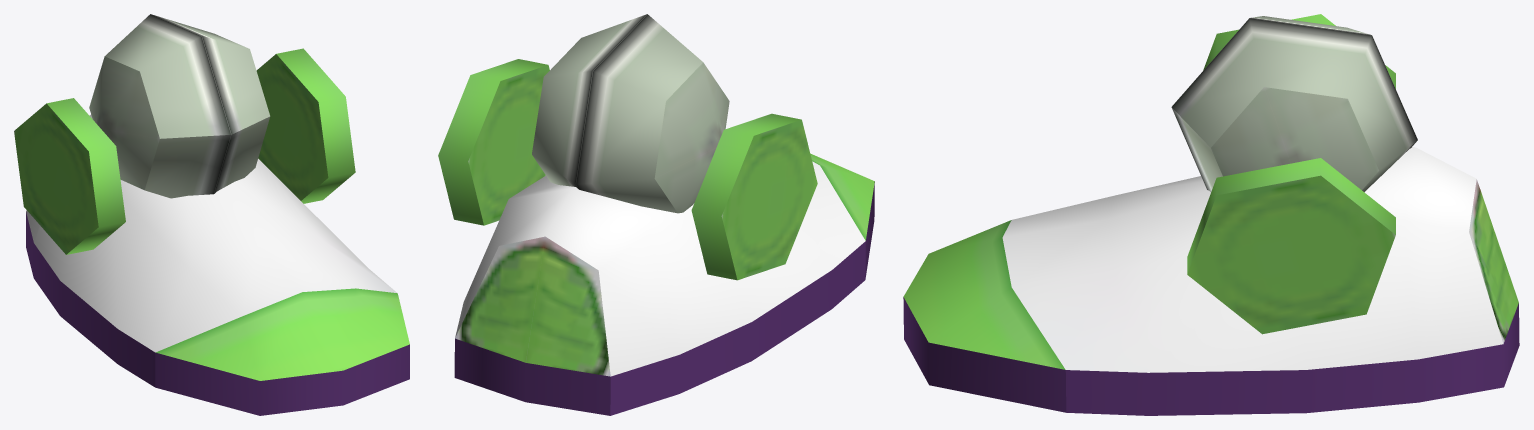
The model's file is buzzlightyRightFoot.obj.
3 renders of one model, left to right at view 1: azimuth 30°, elevation 25°; view 2: azimuth 150°, elevation 25°; view 3: azimuth 270°, elevation 25°, orthographic. The views are drawn at different scales.
Visible parts, largest first — view 1: buzzlightyRightFoot_buzzlighty.005; view 2: buzzlightyRightFoot_buzzlighty.005; view 3: buzzlightyRightFoot_buzzlighty.005.
Boxes of the visible parts, box(x1,y1,x2,y2) form: buzzlightyRightFoot_buzzlighty.005: box(14, 14, 409, 415); buzzlightyRightFoot_buzzlighty.005: box(438, 14, 874, 415); buzzlightyRightFoot_buzzlighty.005: box(903, 14, 1519, 415).
Size of the model in its own units: 0.1133 by 0.1119 by 0.1904.
Materials: 1 (1 with a texture image).
